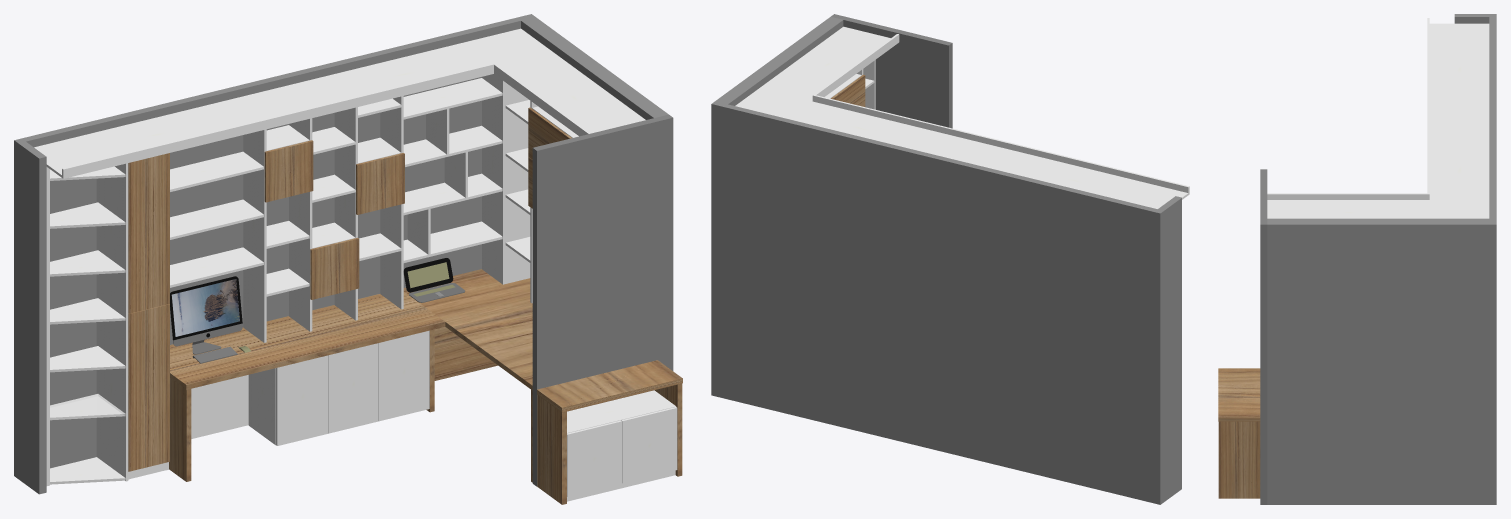
3 views of the same model, side by side, from view 1: azimuth 30°, elevation 25°; view 2: azimuth 150°, elevation 25°; view 3: azimuth 270°, elevation 25° (orthographic). The views are drawn at different scales.
Parts seen in each view (by area): view 1: {F622A6BB-4688-460a-A088-BD53999D1CCE}_Node, {35FA241E-C0DA-49f6-9C03-664C28953DE3}_Node, {0E8B0371-F965-4147-83CB-91D81F7B8214}_Node, {60AD17CF-469F-43b3-B482-6A0400E5D502}_Node, {3680A8C5-9821-4340-9B49-910A8623C8A5}_Node, {C880BB3B-B631-4662-A4D2-58426ECC375E}_Node, {9B69C7B2-498E-4ace-B349-2DB1BA72ABAD}_Node, {D210C34F-6AB9-43e0-B45D-EDAE187D832D}_Node, {C2AF161E-28A7-490c-8619-E7876D5AC0F5}_Node, {3BEA6C75-A040-4d4a-B0D1-62983C7F940A}_Node, {A65F64F1-63C0-46f6-9CAC-34E5FF61A21F}_Node, {796149B4-DCC6-483e-802D-F30ACB6DA339}_Node (+51 smaller); view 2: {35FA241E-C0DA-49f6-9C03-664C28953DE3}_Node, {0E8B0371-F965-4147-83CB-91D81F7B8214}_Node, {F622A6BB-4688-460a-A088-BD53999D1CCE}_Node, {8EA9FBAE-DD31-441e-95BB-FEB0DA3EB78A}_Node, {3680A8C5-9821-4340-9B49-910A8623C8A5}_Node, {D210C34F-6AB9-43e0-B45D-EDAE187D832D}_Node, {3BEA6C75-A040-4d4a-B0D1-62983C7F940A}_Node, {2198256C-D9CA-4914-87F8-A3E4742E936E}_Node, {B17E3021-8C1B-4e46-9645-F2189C1FFBE2}_Node, {FAD6C710-4833-46d5-90C2-1E7F0597D8AA}_Node, {8B80547F-48F6-4469-A6FE-6CA7D7C5FE21}_Node, {015AAD0E-982C-420a-B6ED-11A51CC19AE5}_Node; view 3: {8EA9FBAE-DD31-441e-95BB-FEB0DA3EB78A}_Node, {3680A8C5-9821-4340-9B49-910A8623C8A5}_Node, {D210C34F-6AB9-43e0-B45D-EDAE187D832D}_Node, {93CA8815-40E3-4178-96F0-FF522688BA68}_Node, {3BEA6C75-A040-4d4a-B0D1-62983C7F940A}_Node, {F622A6BB-4688-460a-A088-BD53999D1CCE}_Node, {712B2EE8-905A-455b-AD81-C57BB6BE3448}_Node, {35FA241E-C0DA-49f6-9C03-664C28953DE3}_Node, {8B80547F-48F6-4469-A6FE-6CA7D7C5FE21}_Node, {0E8B0371-F965-4147-83CB-91D81F7B8214}_Node.
Boxes of the visible parts, x1,y1,x2,y2 form: {F622A6BB-4688-460a-A088-BD53999D1CCE}_Node: [532, 114, 673, 486]; {35FA241E-C0DA-49f6-9C03-664C28953DE3}_Node: [29, 17, 520, 468]; {0E8B0371-F965-4147-83CB-91D81F7B8214}_Node: [14, 138, 46, 494]; {60AD17CF-469F-43b3-B482-6A0400E5D502}_Node: [170, 291, 445, 389]; {3680A8C5-9821-4340-9B49-910A8623C8A5}_Node: [250, 28, 556, 115]; {C880BB3B-B631-4662-A4D2-58426ECC375E}_Node: [403, 269, 532, 390]; {9B69C7B2-498E-4ace-B349-2DB1BA72ABAD}_Node: [128, 304, 169, 471]; {D210C34F-6AB9-43e0-B45D-EDAE187D832D}_Node: [34, 94, 278, 177]; {C2AF161E-28A7-490c-8619-E7876D5AC0F5}_Node: [128, 153, 169, 313]; {3BEA6C75-A040-4d4a-B0D1-62983C7F940A}_Node: [502, 54, 645, 133]; {A65F64F1-63C0-46f6-9CAC-34E5FF61A21F}_Node: [276, 355, 328, 445]; {796149B4-DCC6-483e-802D-F30ACB6DA339}_Node: [96, 297, 128, 481]; {35FA241E-C0DA-49f6-9C03-664C28953DE3}_Node: [724, 104, 1150, 501]; {0E8B0371-F965-4147-83CB-91D81F7B8214}_Node: [1154, 196, 1181, 504]; {F622A6BB-4688-460a-A088-BD53999D1CCE}_Node: [831, 14, 952, 128]; {8EA9FBAE-DD31-441e-95BB-FEB0DA3EB78A}_Node: [711, 16, 843, 398]; {3680A8C5-9821-4340-9B49-910A8623C8A5}_Node: [735, 88, 993, 163]; {D210C34F-6AB9-43e0-B45D-EDAE187D832D}_Node: [970, 146, 1188, 208]; {3BEA6C75-A040-4d4a-B0D1-62983C7F940A}_Node: [759, 26, 890, 101]; {2198256C-D9CA-4914-87F8-A3E4742E936E}_Node: [1147, 207, 1157, 503]; {B17E3021-8C1B-4e46-9645-F2189C1FFBE2}_Node: [994, 139, 1189, 194]; {FAD6C710-4833-46d5-90C2-1E7F0597D8AA}_Node: [812, 95, 994, 145]; {8B80547F-48F6-4469-A6FE-6CA7D7C5FE21}_Node: [814, 34, 899, 96]; {015AAD0E-982C-420a-B6ED-11A51CC19AE5}_Node: [831, 74, 865, 106]; {8EA9FBAE-DD31-441e-95BB-FEB0DA3EB78A}_Node: [1267, 218, 1496, 504]; {3680A8C5-9821-4340-9B49-910A8623C8A5}_Node: [1429, 115, 1489, 218]; {D210C34F-6AB9-43e0-B45D-EDAE187D832D}_Node: [1429, 23, 1489, 114]; {93CA8815-40E3-4178-96F0-FF522688BA68}_Node: [1218, 421, 1260, 498]; {3BEA6C75-A040-4d4a-B0D1-62983C7F940A}_Node: [1267, 200, 1429, 218]; {F622A6BB-4688-460a-A088-BD53999D1CCE}_Node: [1260, 169, 1267, 504]; {712B2EE8-905A-455b-AD81-C57BB6BE3448}_Node: [1218, 368, 1260, 421]; {35FA241E-C0DA-49f6-9C03-664C28953DE3}_Node: [1489, 20, 1496, 218]; {8B80547F-48F6-4469-A6FE-6CA7D7C5FE21}_Node: [1267, 193, 1427, 199]; {0E8B0371-F965-4147-83CB-91D81F7B8214}_Node: [1454, 14, 1496, 23].
Size of the model in its own units: 4.18 by 2.59 by 2.33.
Materials: 12 (6 with a texture image).
